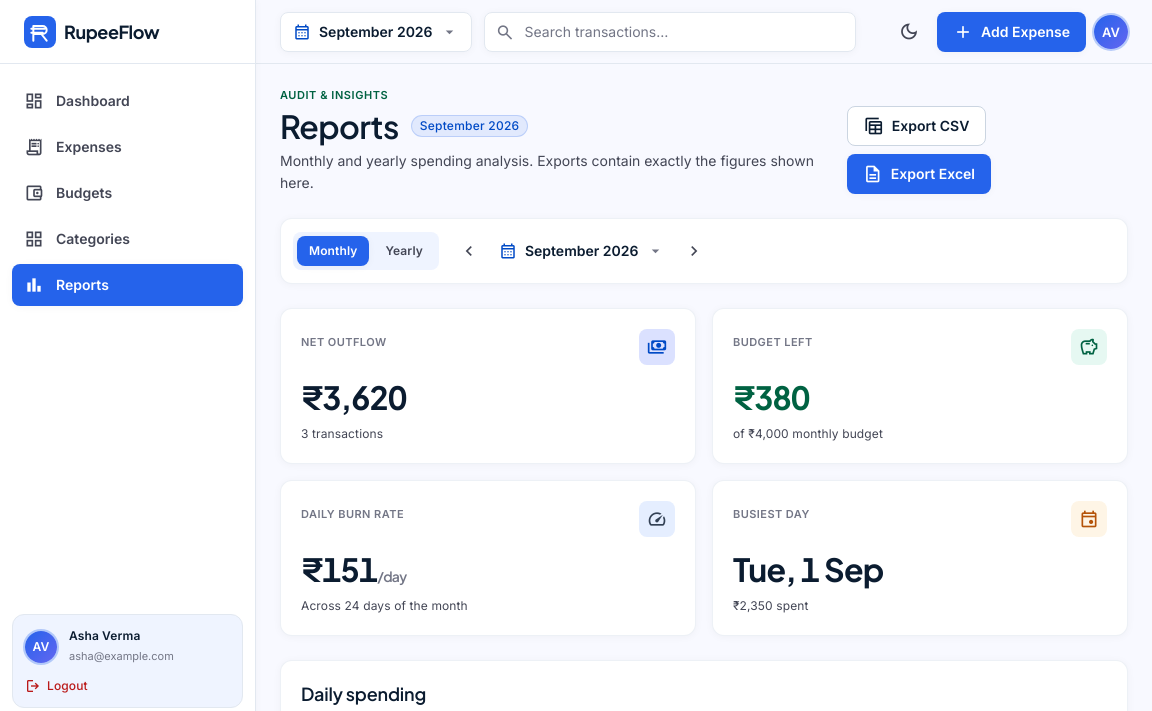
Test case: Reports › downloads the export through the authenticated client
This screenshot has width=1152, height=711.
Click the button "Export CSV": (917, 126) [847,106,986,146]
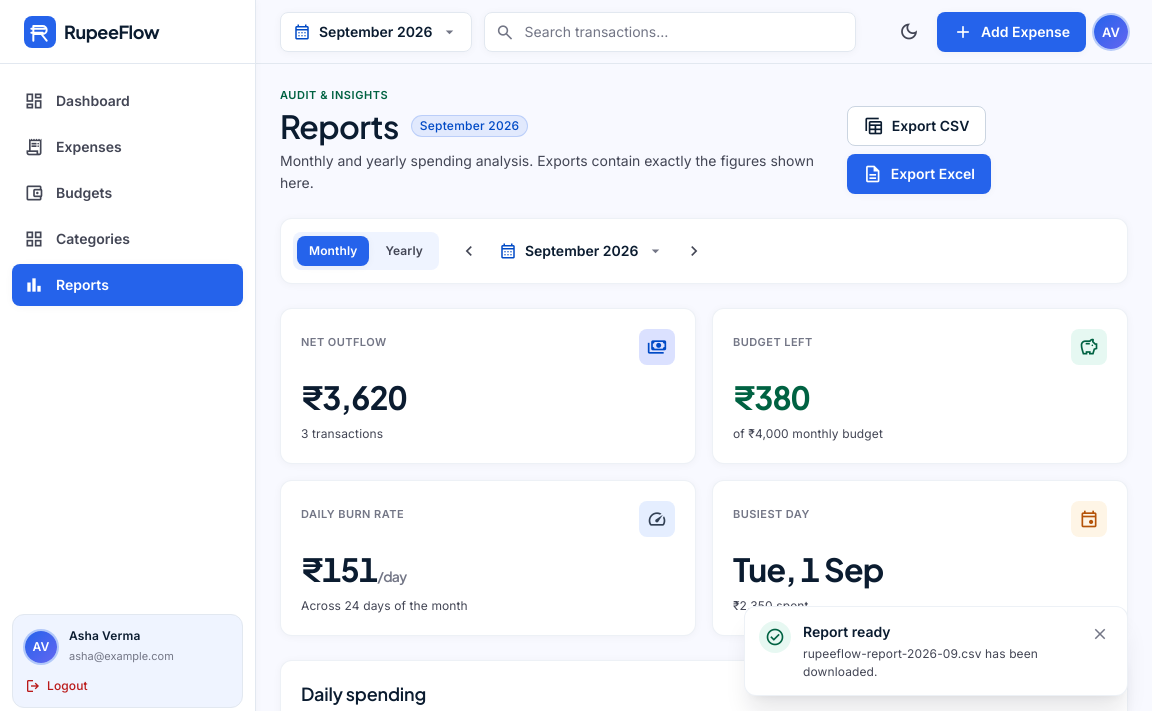
Expected: the text "rupeeflow-report-2026-09.csv has been downloaded." is shown, [803,645,1075,681]
